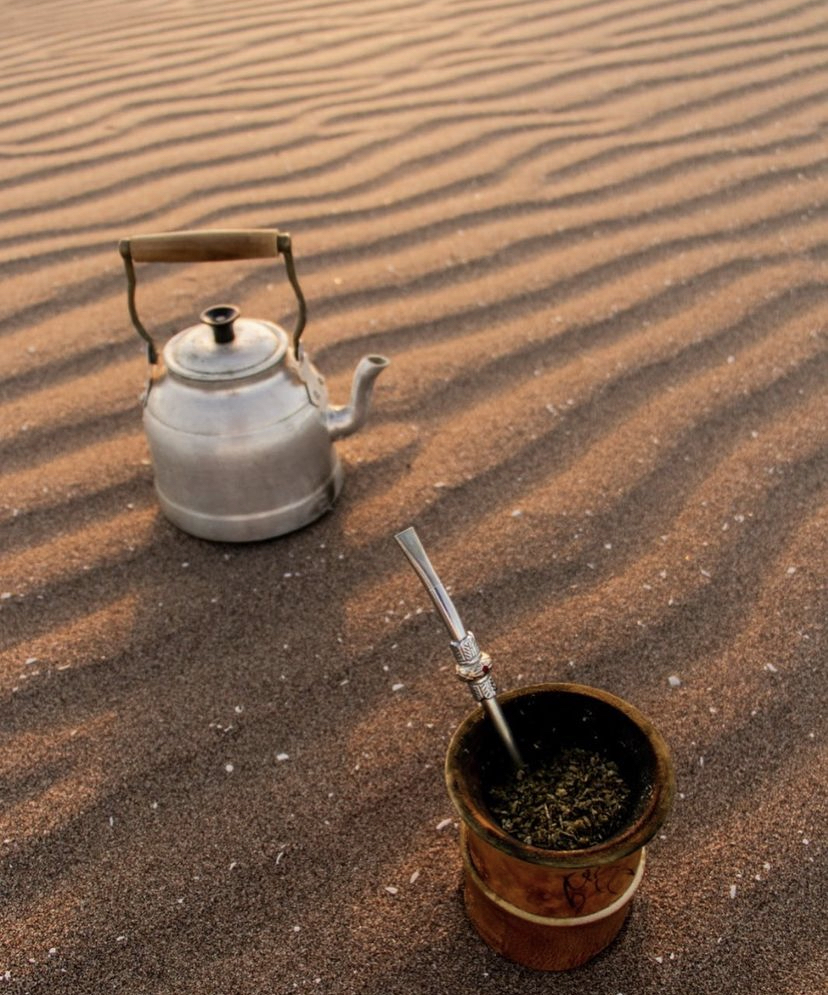madera: (424, 680, 673, 970)
mate: (384, 518, 676, 981)
